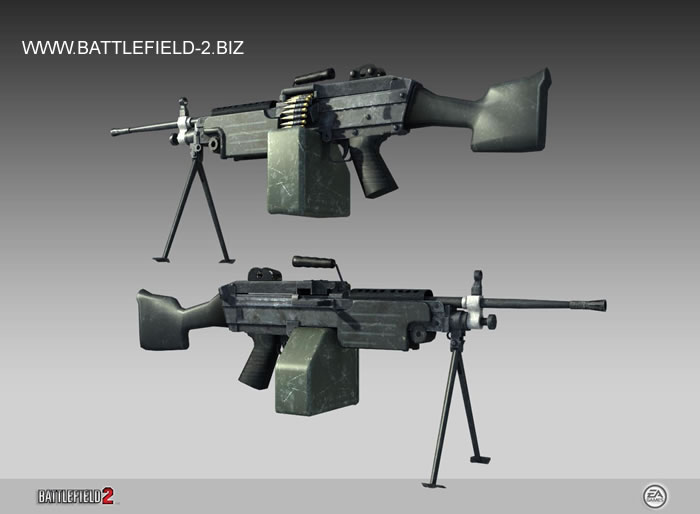rifle: (141, 269, 643, 482), (110, 67, 598, 253)
